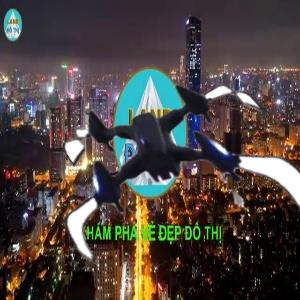drone: (42, 49, 286, 293)
